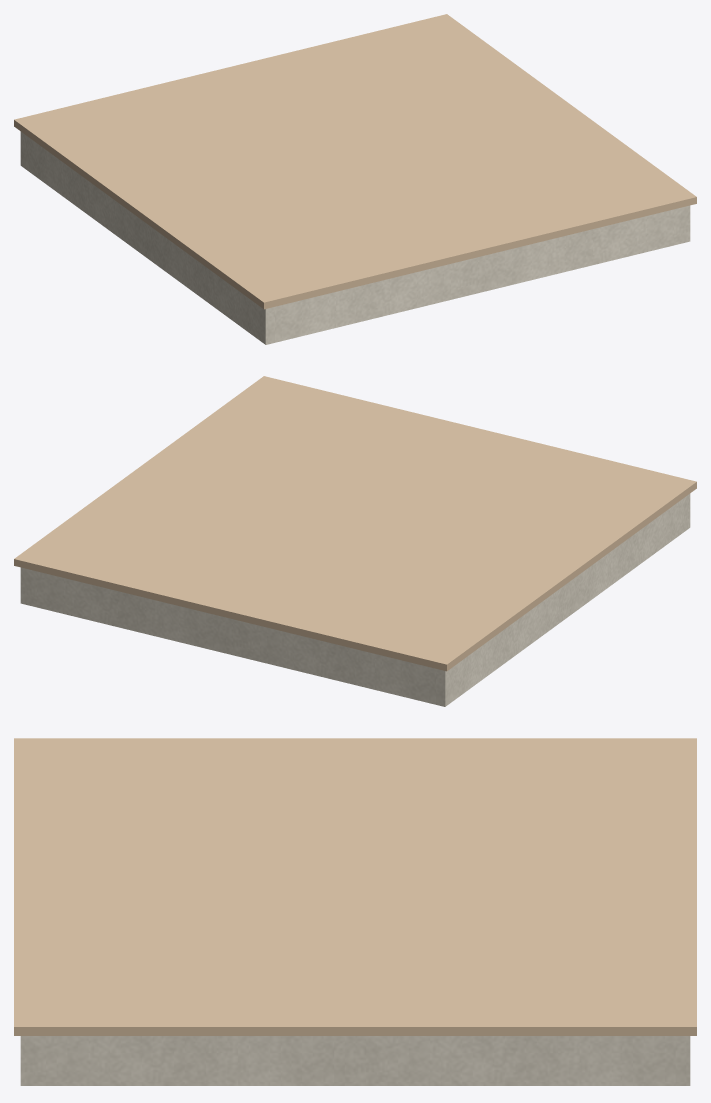
File: floor_tile.glb
3 renders of one model, top to bottom at view 1: azimuth 30°, elevation 25°; view 2: azimuth 150°, elevation 25°; view 3: azimuth 270°, elevation 25°, orthographic. The views are drawn at different scales.
Visible parts, largest first — view 1: floor_tile_floor, floor_tile_plaster; view 2: floor_tile_floor, floor_tile_plaster; view 3: floor_tile_floor, floor_tile_plaster.
Boxes of the visible parts, bbox=[...] form: floor_tile_floor: bbox=[14, 14, 696, 309]; floor_tile_plaster: bbox=[20, 131, 690, 344]; floor_tile_floor: bbox=[14, 376, 696, 671]; floor_tile_plaster: bbox=[20, 493, 690, 706]; floor_tile_floor: bbox=[14, 738, 696, 1035]; floor_tile_plaster: bbox=[20, 1036, 690, 1085].
Size of the model in its own units: 2 by 0.2 by 2.
Materials: 2 (1 with a texture image).
